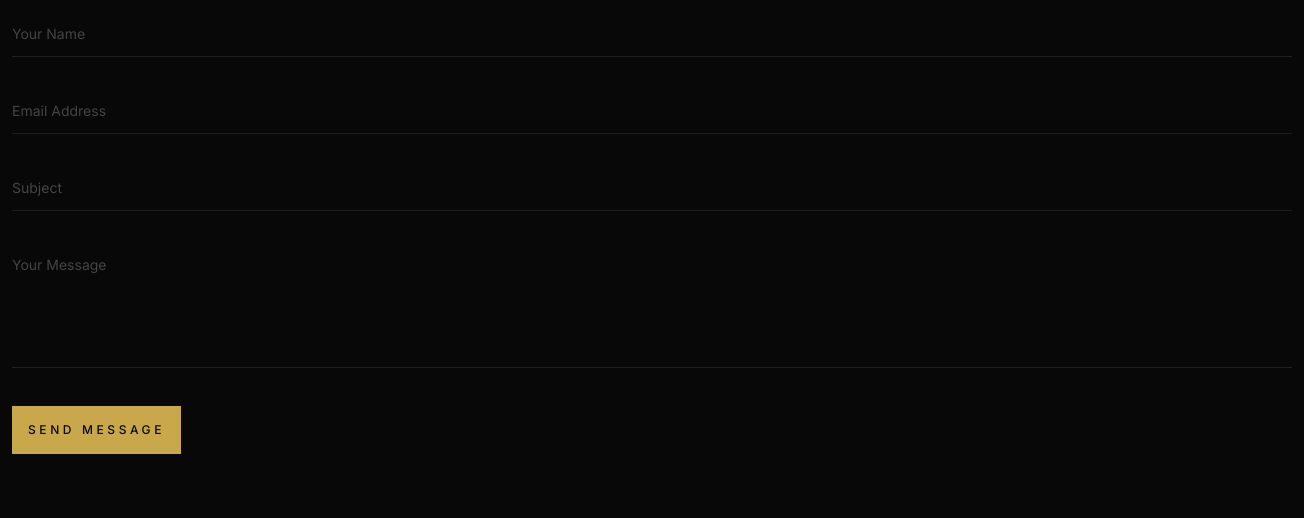
Test case: ContactForm › shows success message after successful submission
The width and height of the screenshot is (1304, 518).
Type "Jane Smith" into the field with placeholder "Your Name".
click(652, 34); type("Jane Smith")  # box x1=12 y1=12 x2=1292 y2=57
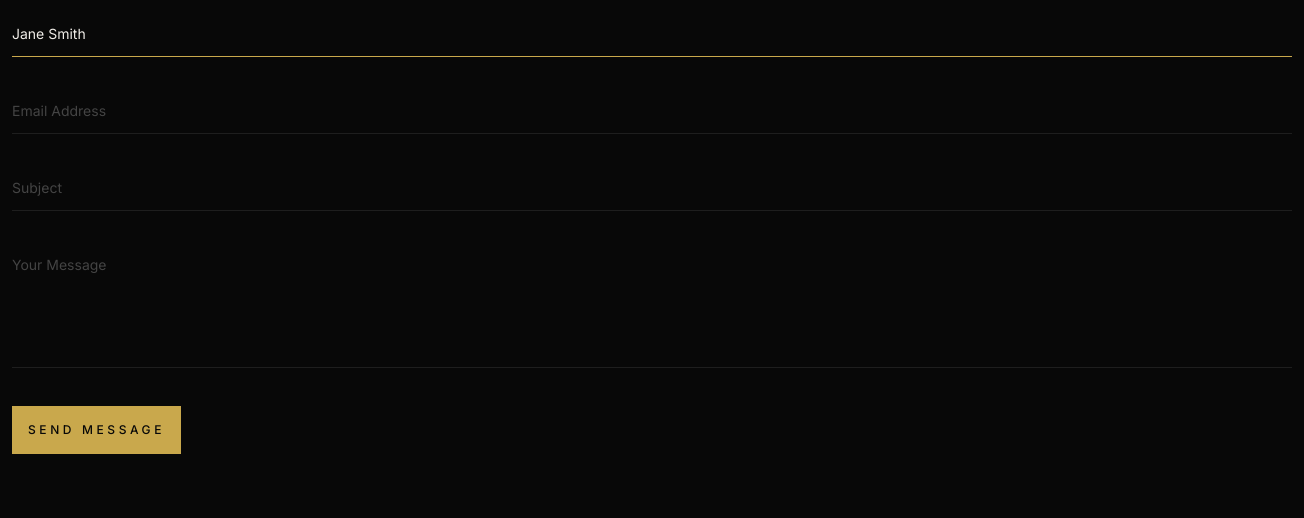
Type "jane@example.com" into the field with placeholder "Email Address".
click(652, 112); type("jane@example.com")  # box x1=12 y1=89 x2=1292 y2=134
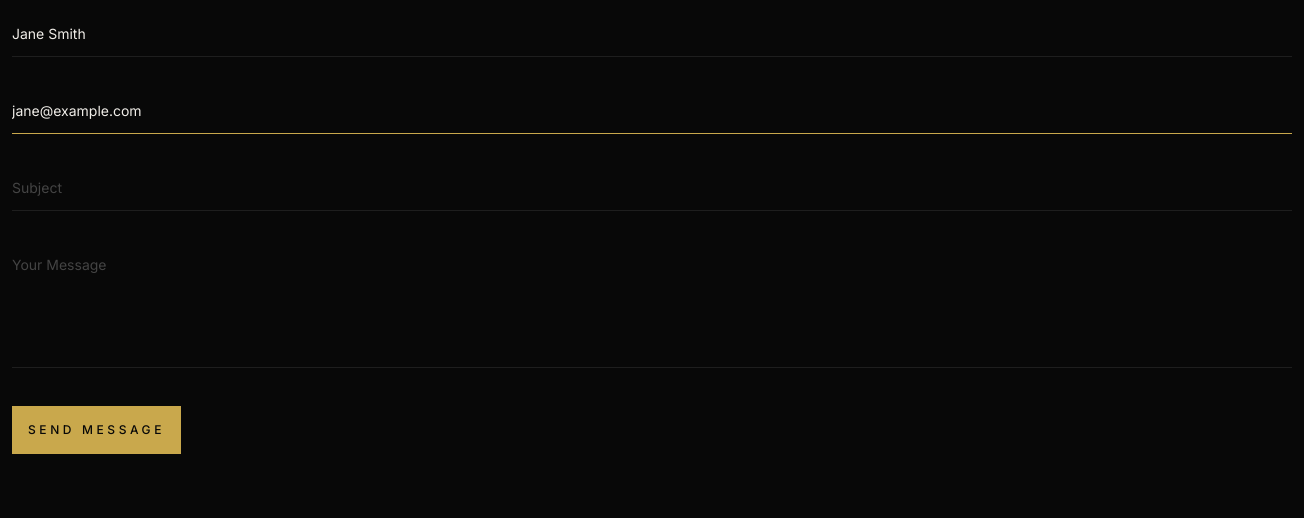
Type "Booking Request" into the field with placeholder "Subject".
click(652, 188); type("Booking Request")  # box x1=12 y1=166 x2=1292 y2=211
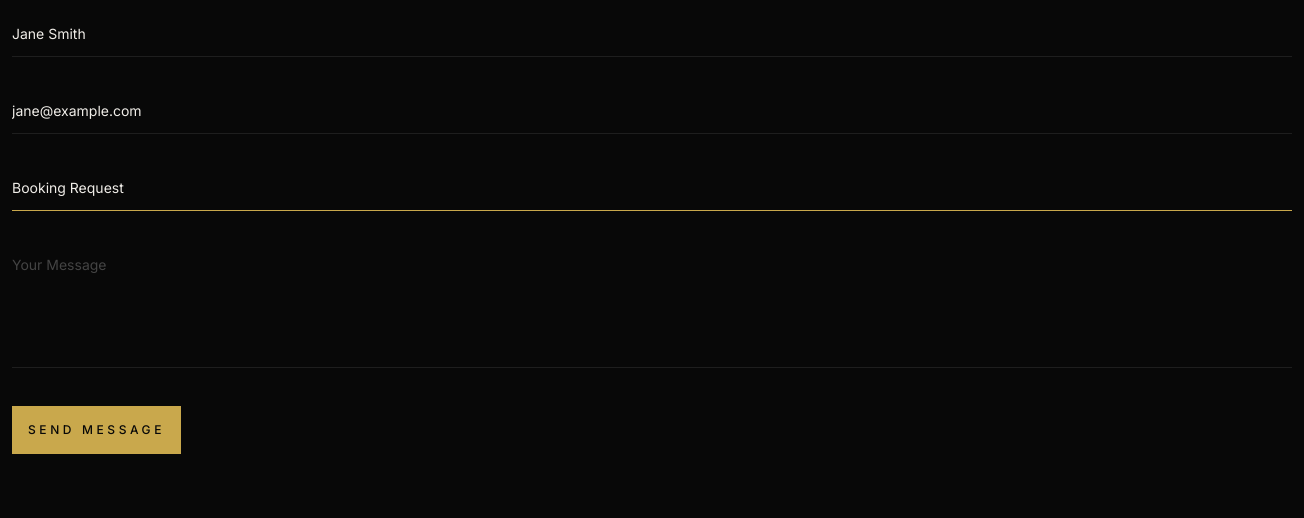
Type "This is a detailed message that meets the minimum character requirement." into the text box with placeholder "Your Message".
click(652, 306); type("This is a detailed message that meets the minimum character requirement.")  # box x1=12 y1=243 x2=1292 y2=368
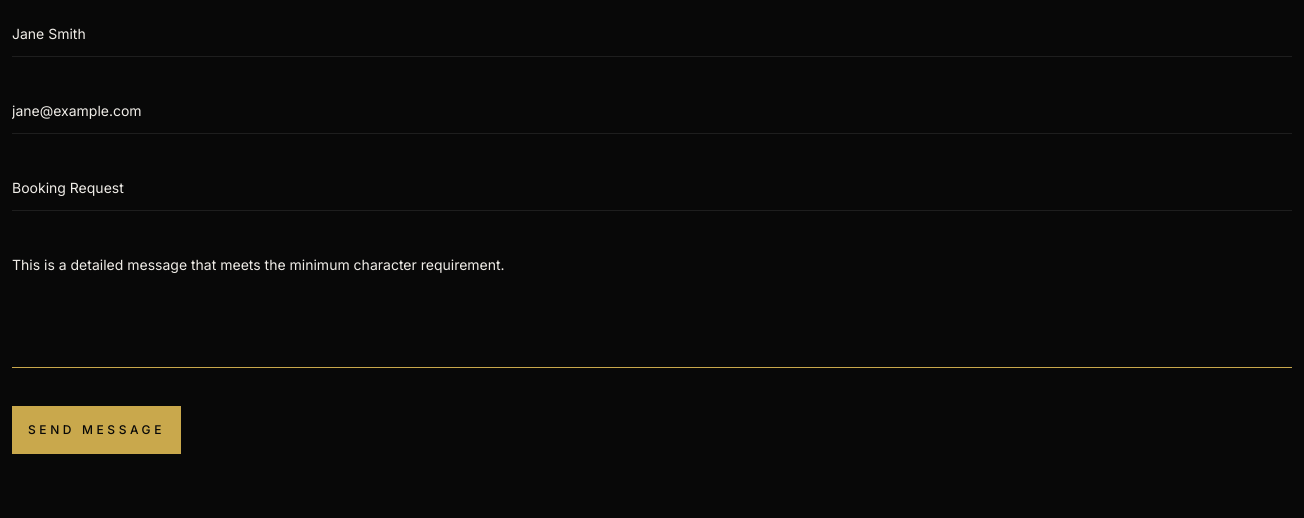
Click the button "Send Message".
click(96, 430)  # box x1=12 y1=406 x2=181 y2=454
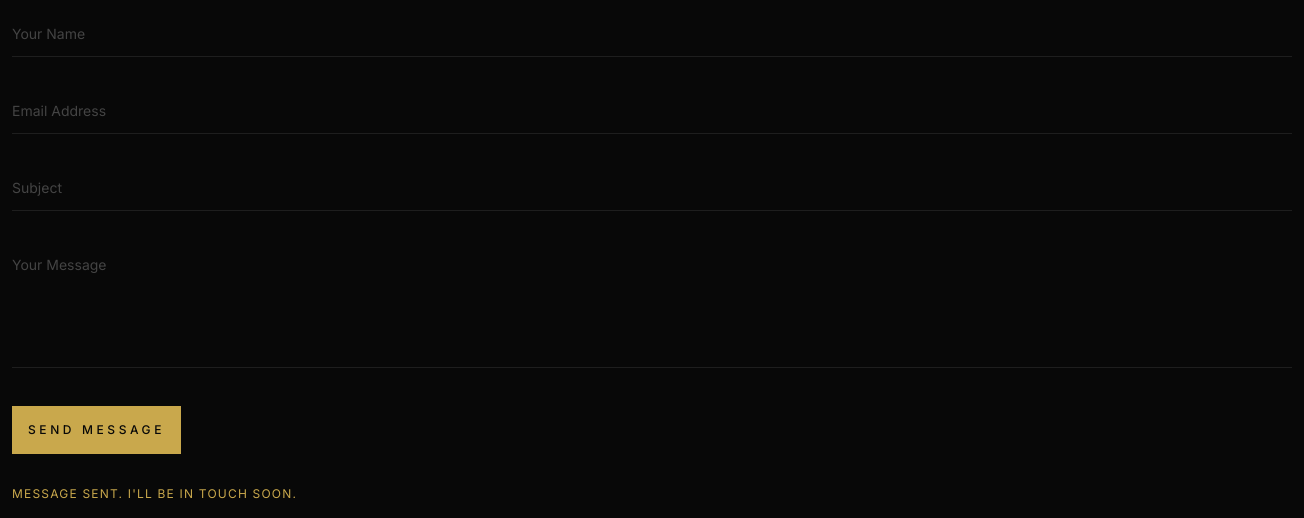
Check: the text "Message sent. I'll be in touch soon." is shown, box x1=12 y1=486 x2=297 y2=501
